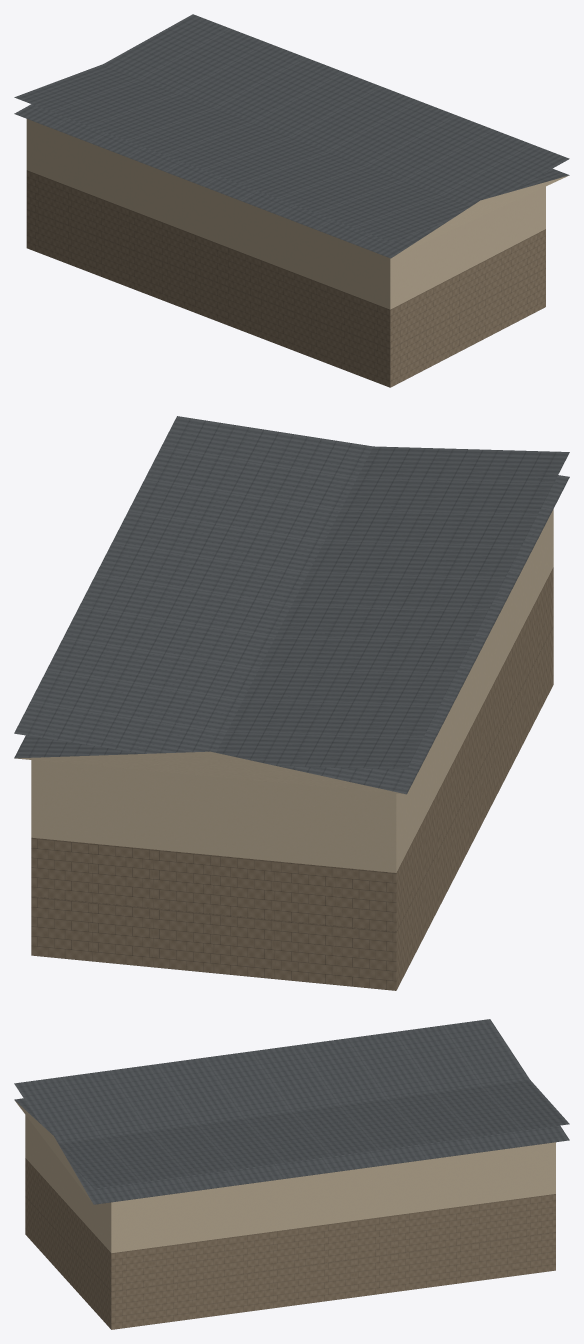
The model's file is bld_c43_39_228.gltf.
3 views of the same model, one above another, from view 1: azimuth 30°, elevation 25°; view 2: azimuth 150°, elevation 25°; view 3: azimuth 270°, elevation 25° (orthographic). The views are drawn at different scales.
Visible parts, largest first — view 1: bld_c43_39_228; view 2: bld_c43_39_228; view 3: bld_c43_39_228.
Boxes of the visible parts, x1,y1,x2,y2 form: bld_c43_39_228: [14, 14, 569, 387]; bld_c43_39_228: [14, 416, 569, 990]; bld_c43_39_228: [14, 1019, 569, 1329].
Size of the model in its own units: 22.56 by 9.2 by 31.24.
Materials: 4 (4 with a texture image).
